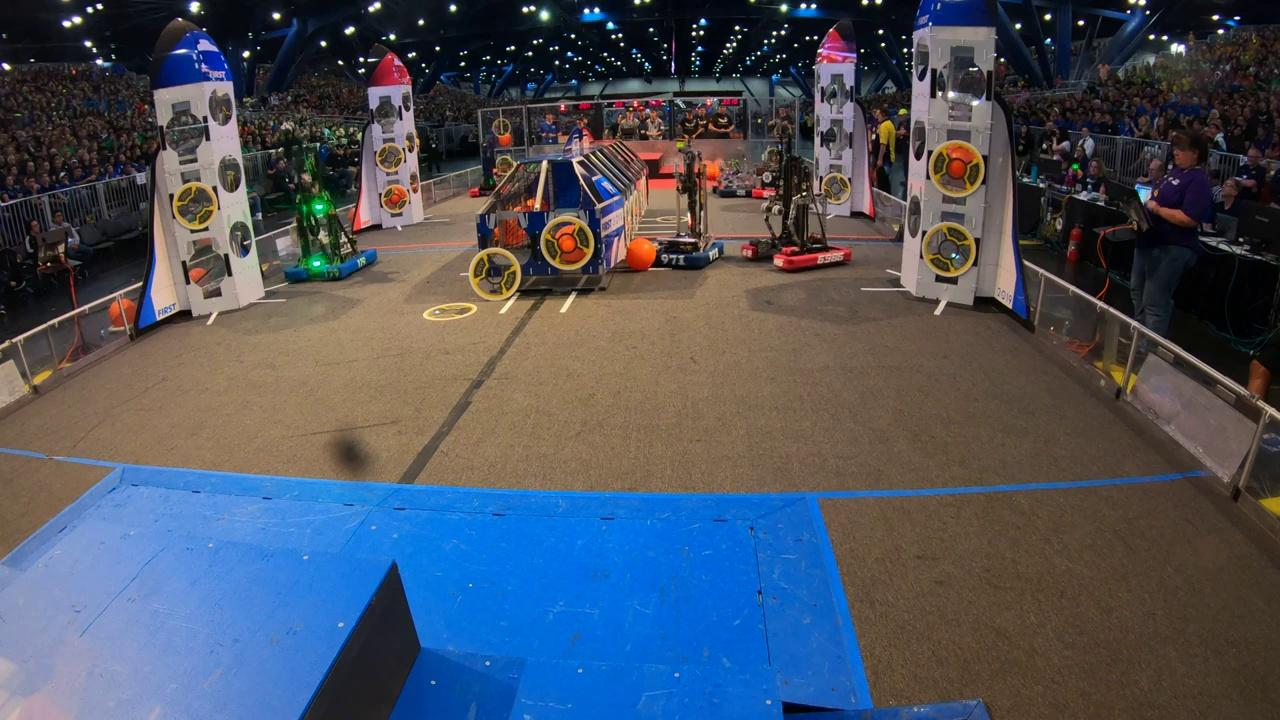robot: (737, 144, 856, 275), (273, 158, 385, 286), (630, 137, 730, 273), (711, 150, 756, 199)
